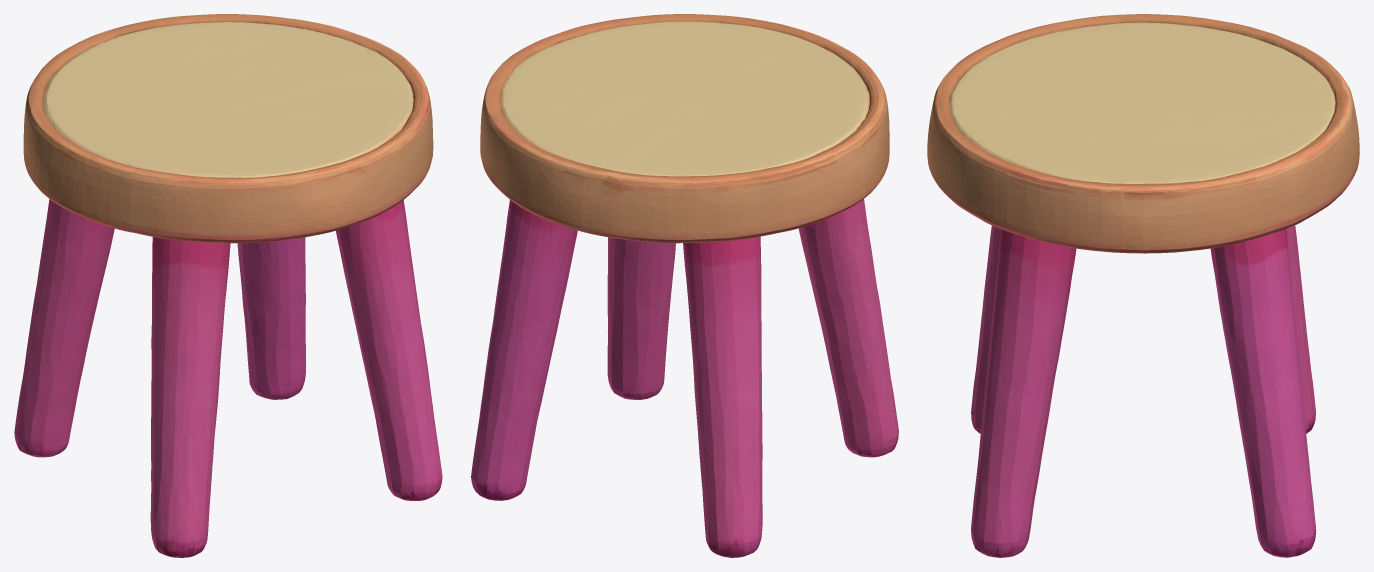
3 renders of one model, left to right at view 1: azimuth 30°, elevation 25°; view 2: azimuth 150°, elevation 25°; view 3: azimuth 270°, elevation 25°, orthographic. The views are drawn at different scales.
Visible parts, largest first — view 1: world; view 2: world; view 3: world.
Part boxes in pixels (bbox=[...]): world: bbox=[14, 14, 442, 557]; world: bbox=[471, 14, 898, 557]; world: bbox=[927, 14, 1359, 557].
Bounding box in the file's own units: 99.77 × 99.28 × 99.71.
Materials: 1 (1 with a texture image).
